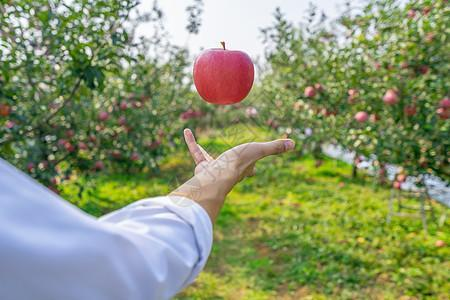apple: (192, 45, 255, 105)
